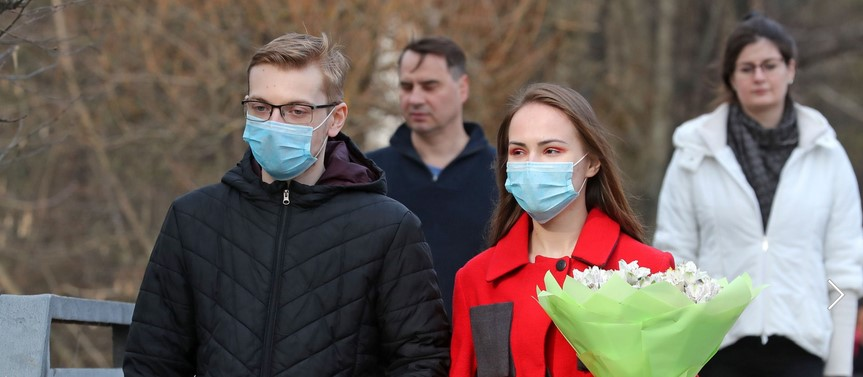face_no_mask: (395, 39, 472, 141), (726, 20, 794, 126)
face_with_mask: (239, 33, 349, 182), (503, 83, 604, 229)
